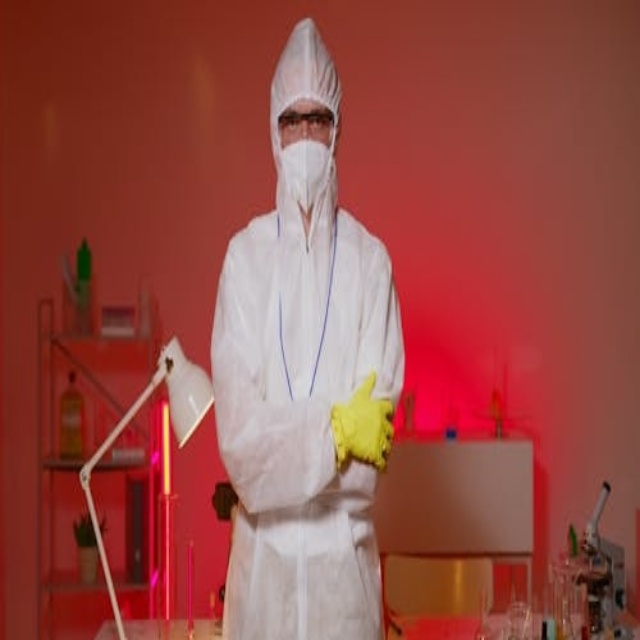Gafas: (279, 110, 334, 134)
Guantes: (330, 372, 395, 472)
Mascara: (279, 135, 334, 223)
